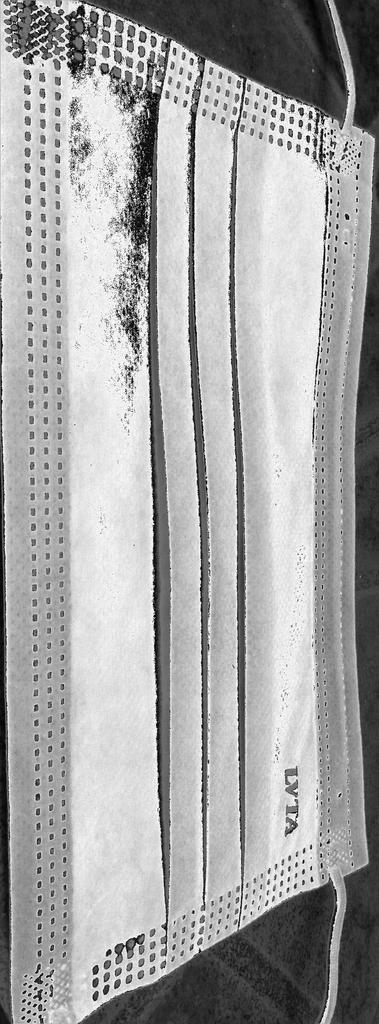High GSM: (61, 69, 318, 955)
